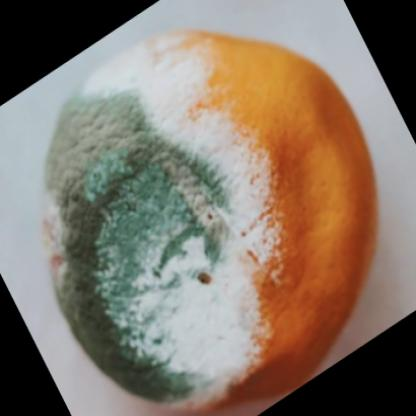rotten: (43, 27, 378, 401)
